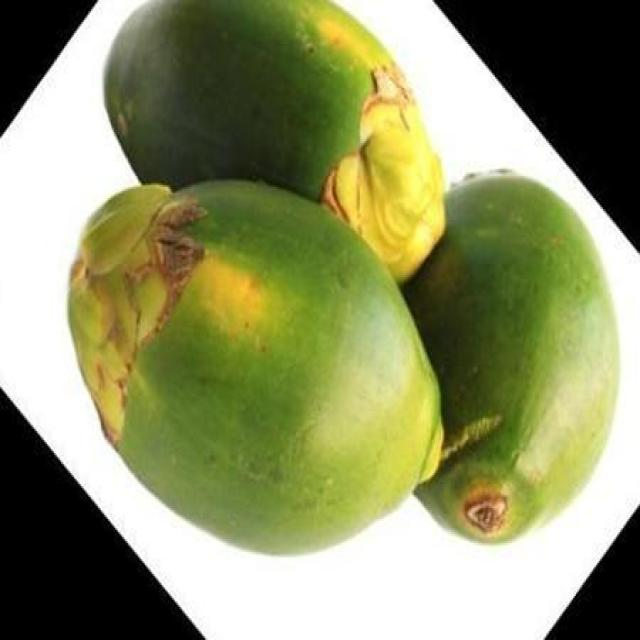good: (64, 178, 442, 561), (104, 0, 447, 286), (400, 172, 622, 546)
